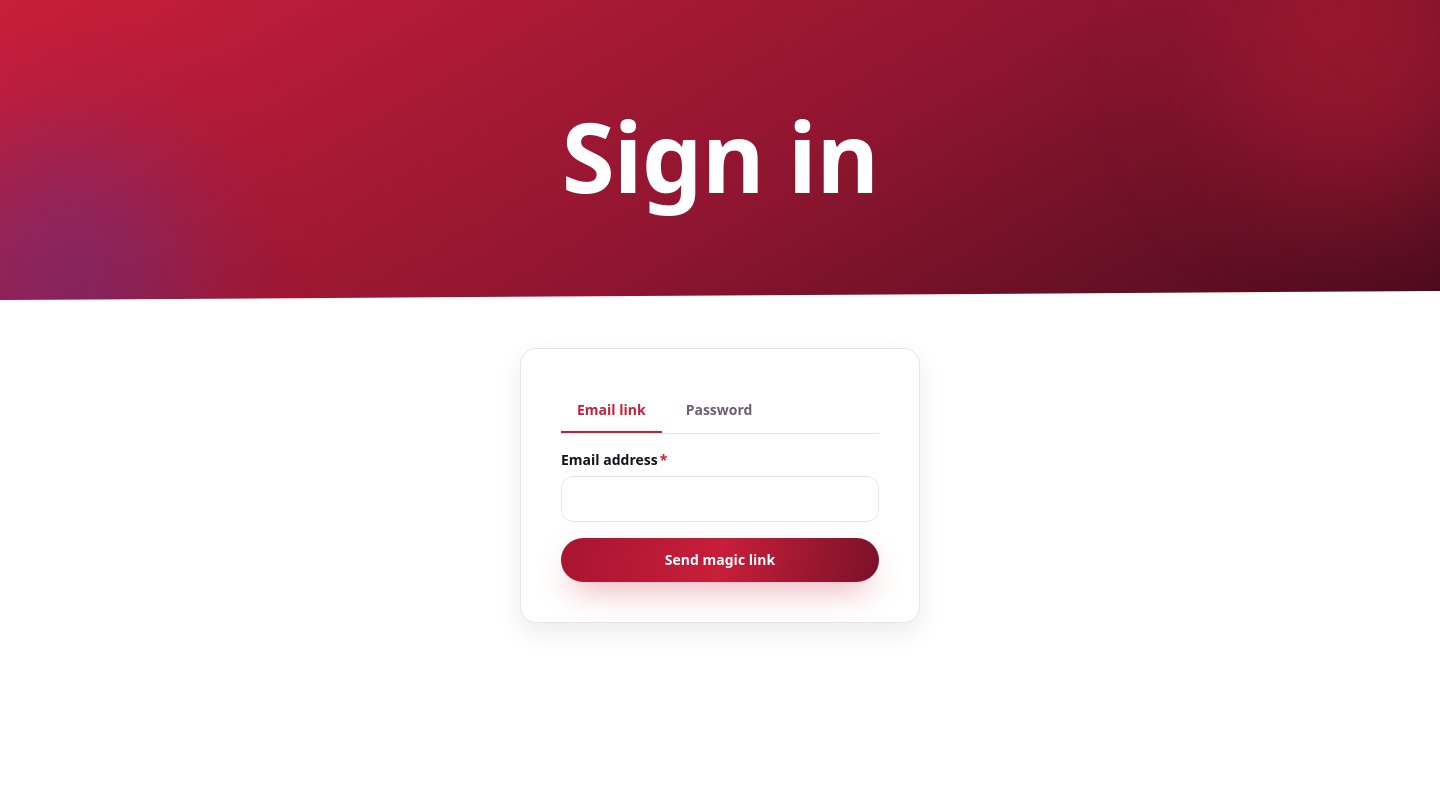
Scenario: AccountLoginPage › shows an error message when signInWithOtp fails, without silently claiming success
Type "person@example.com" into the field labelled "Email address" at (720, 499), box [561,476,879,522]
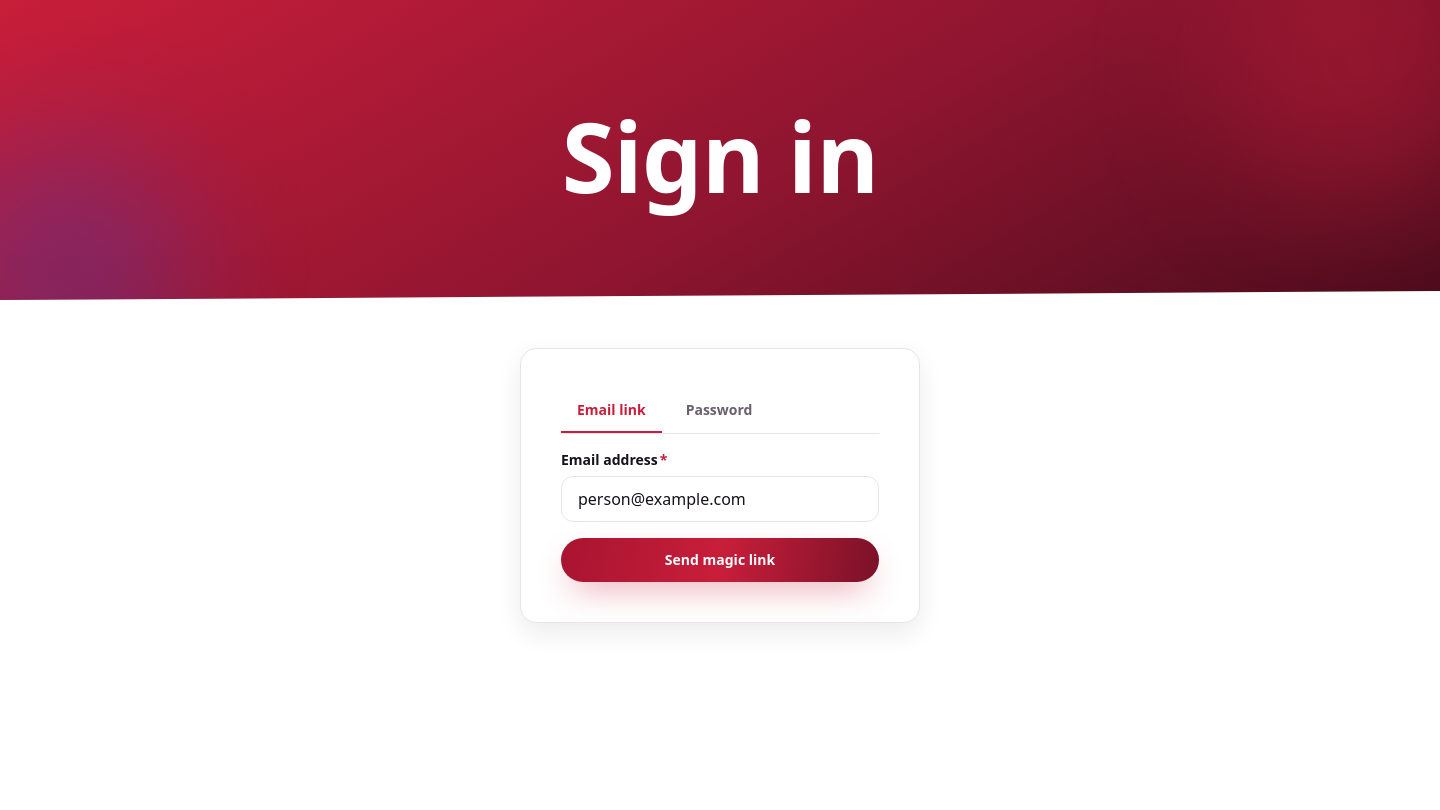
Click the button "Send magic link" at (720, 560), box [561,538,879,582]
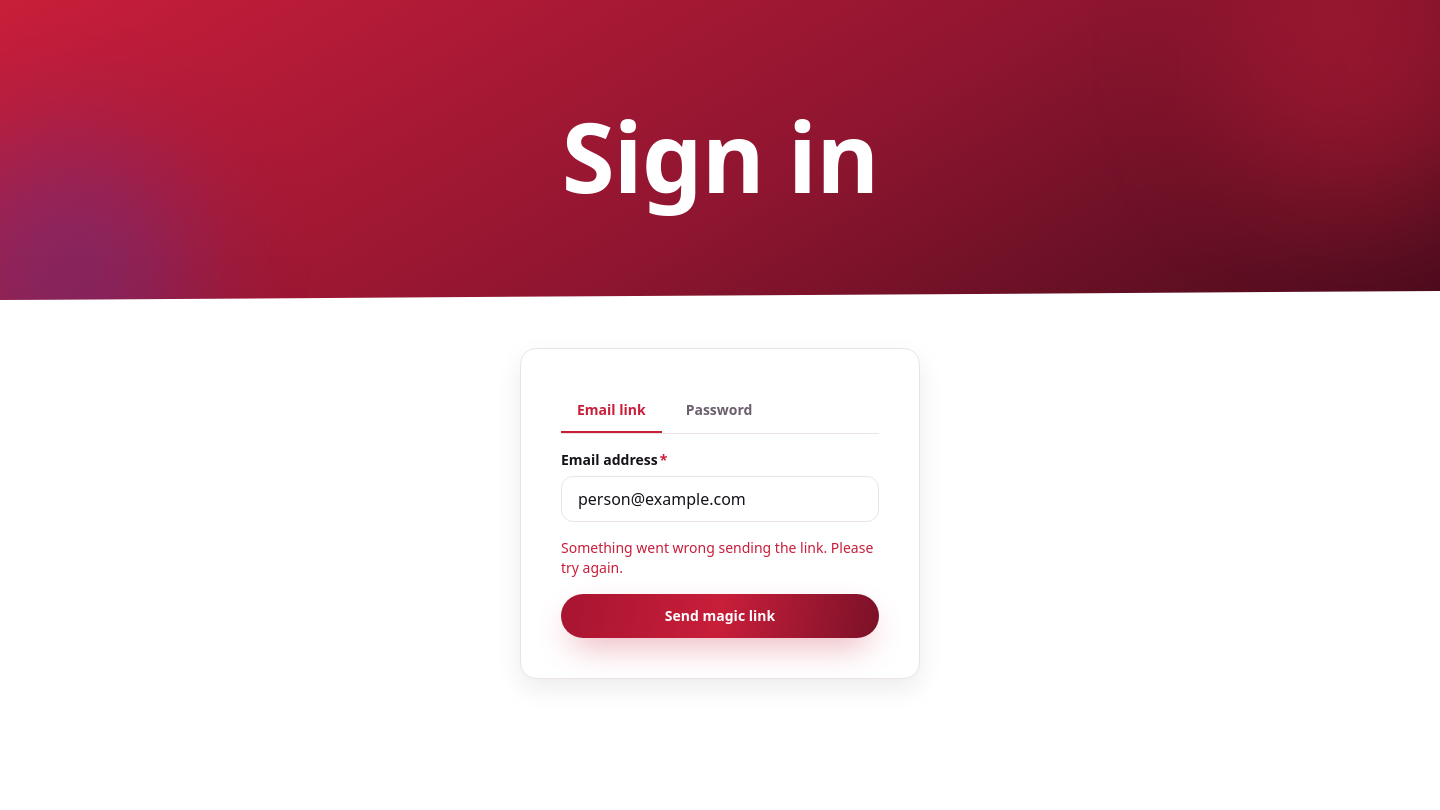
Result: the message reads "Something went wrong sending the link. Please try again." at [561,538,873,577]
